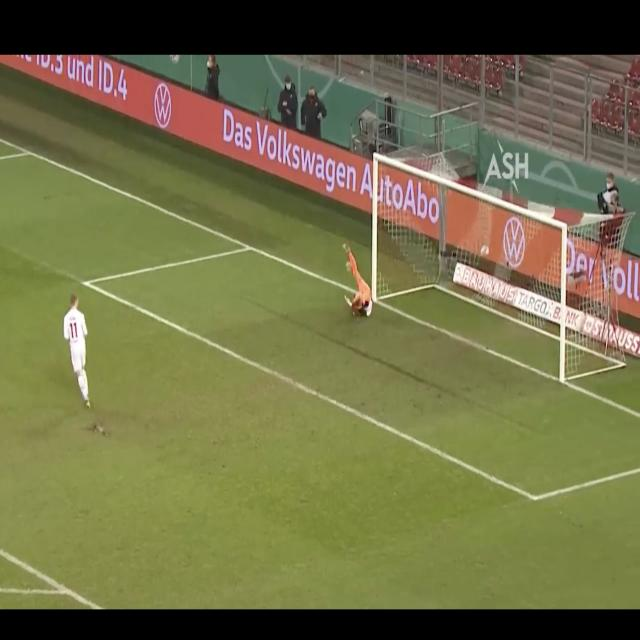left-top: (376, 156, 467, 196)
soccer-goal: (374, 156, 562, 384)
